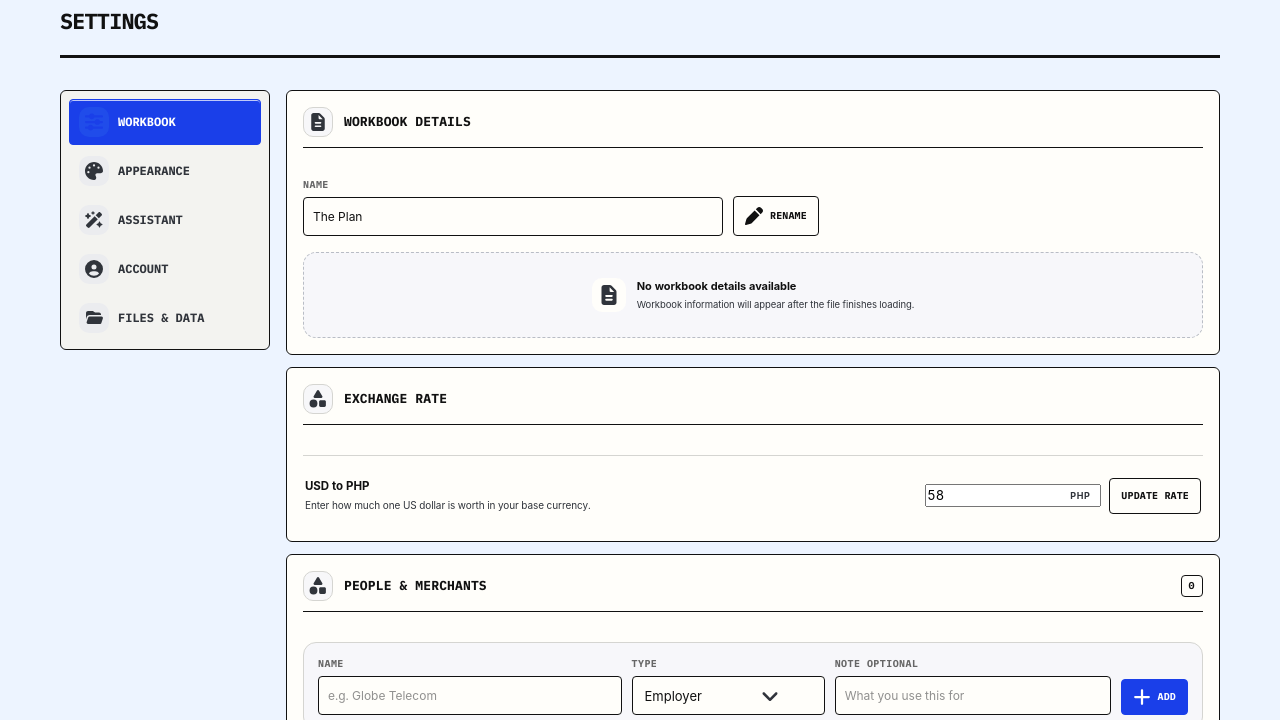
Test case: Settings and Bills interactions › shows only the selected settings section
Click the tab "Appearance".
click(165, 171)  # box [69, 148, 261, 194]
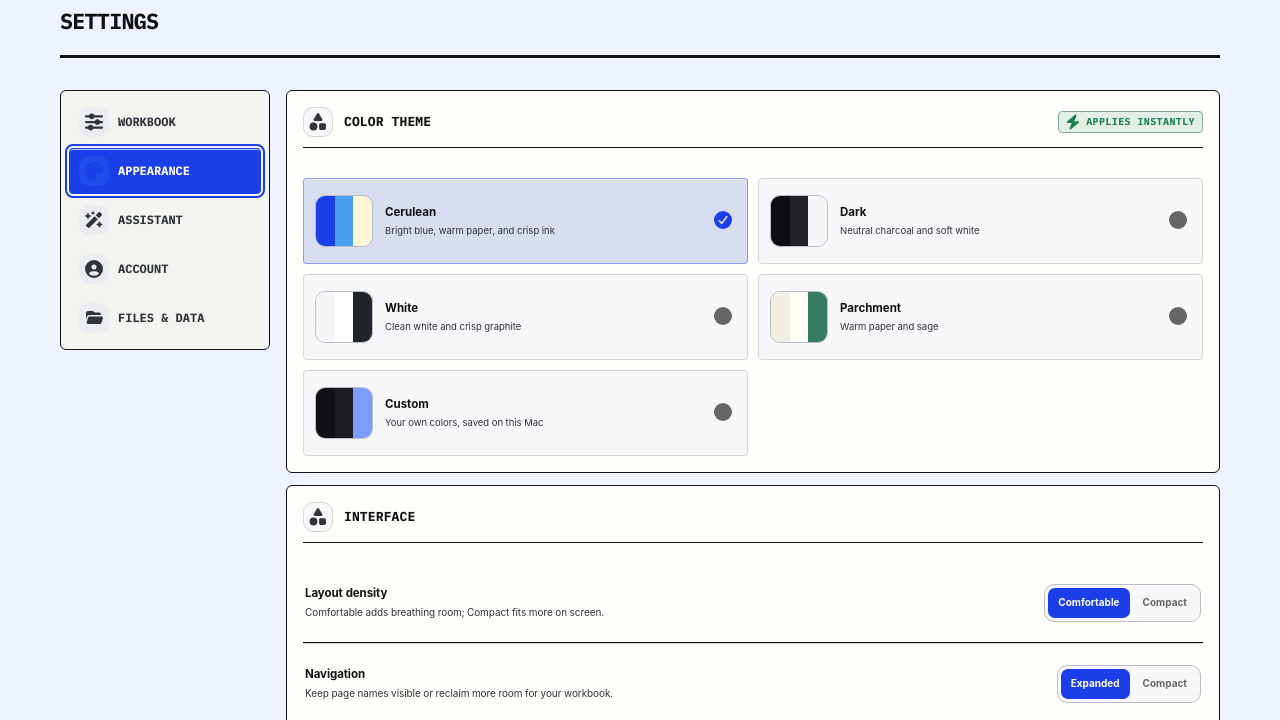
Expected: the heading "Color theme" is shown, [344, 114, 431, 130]
